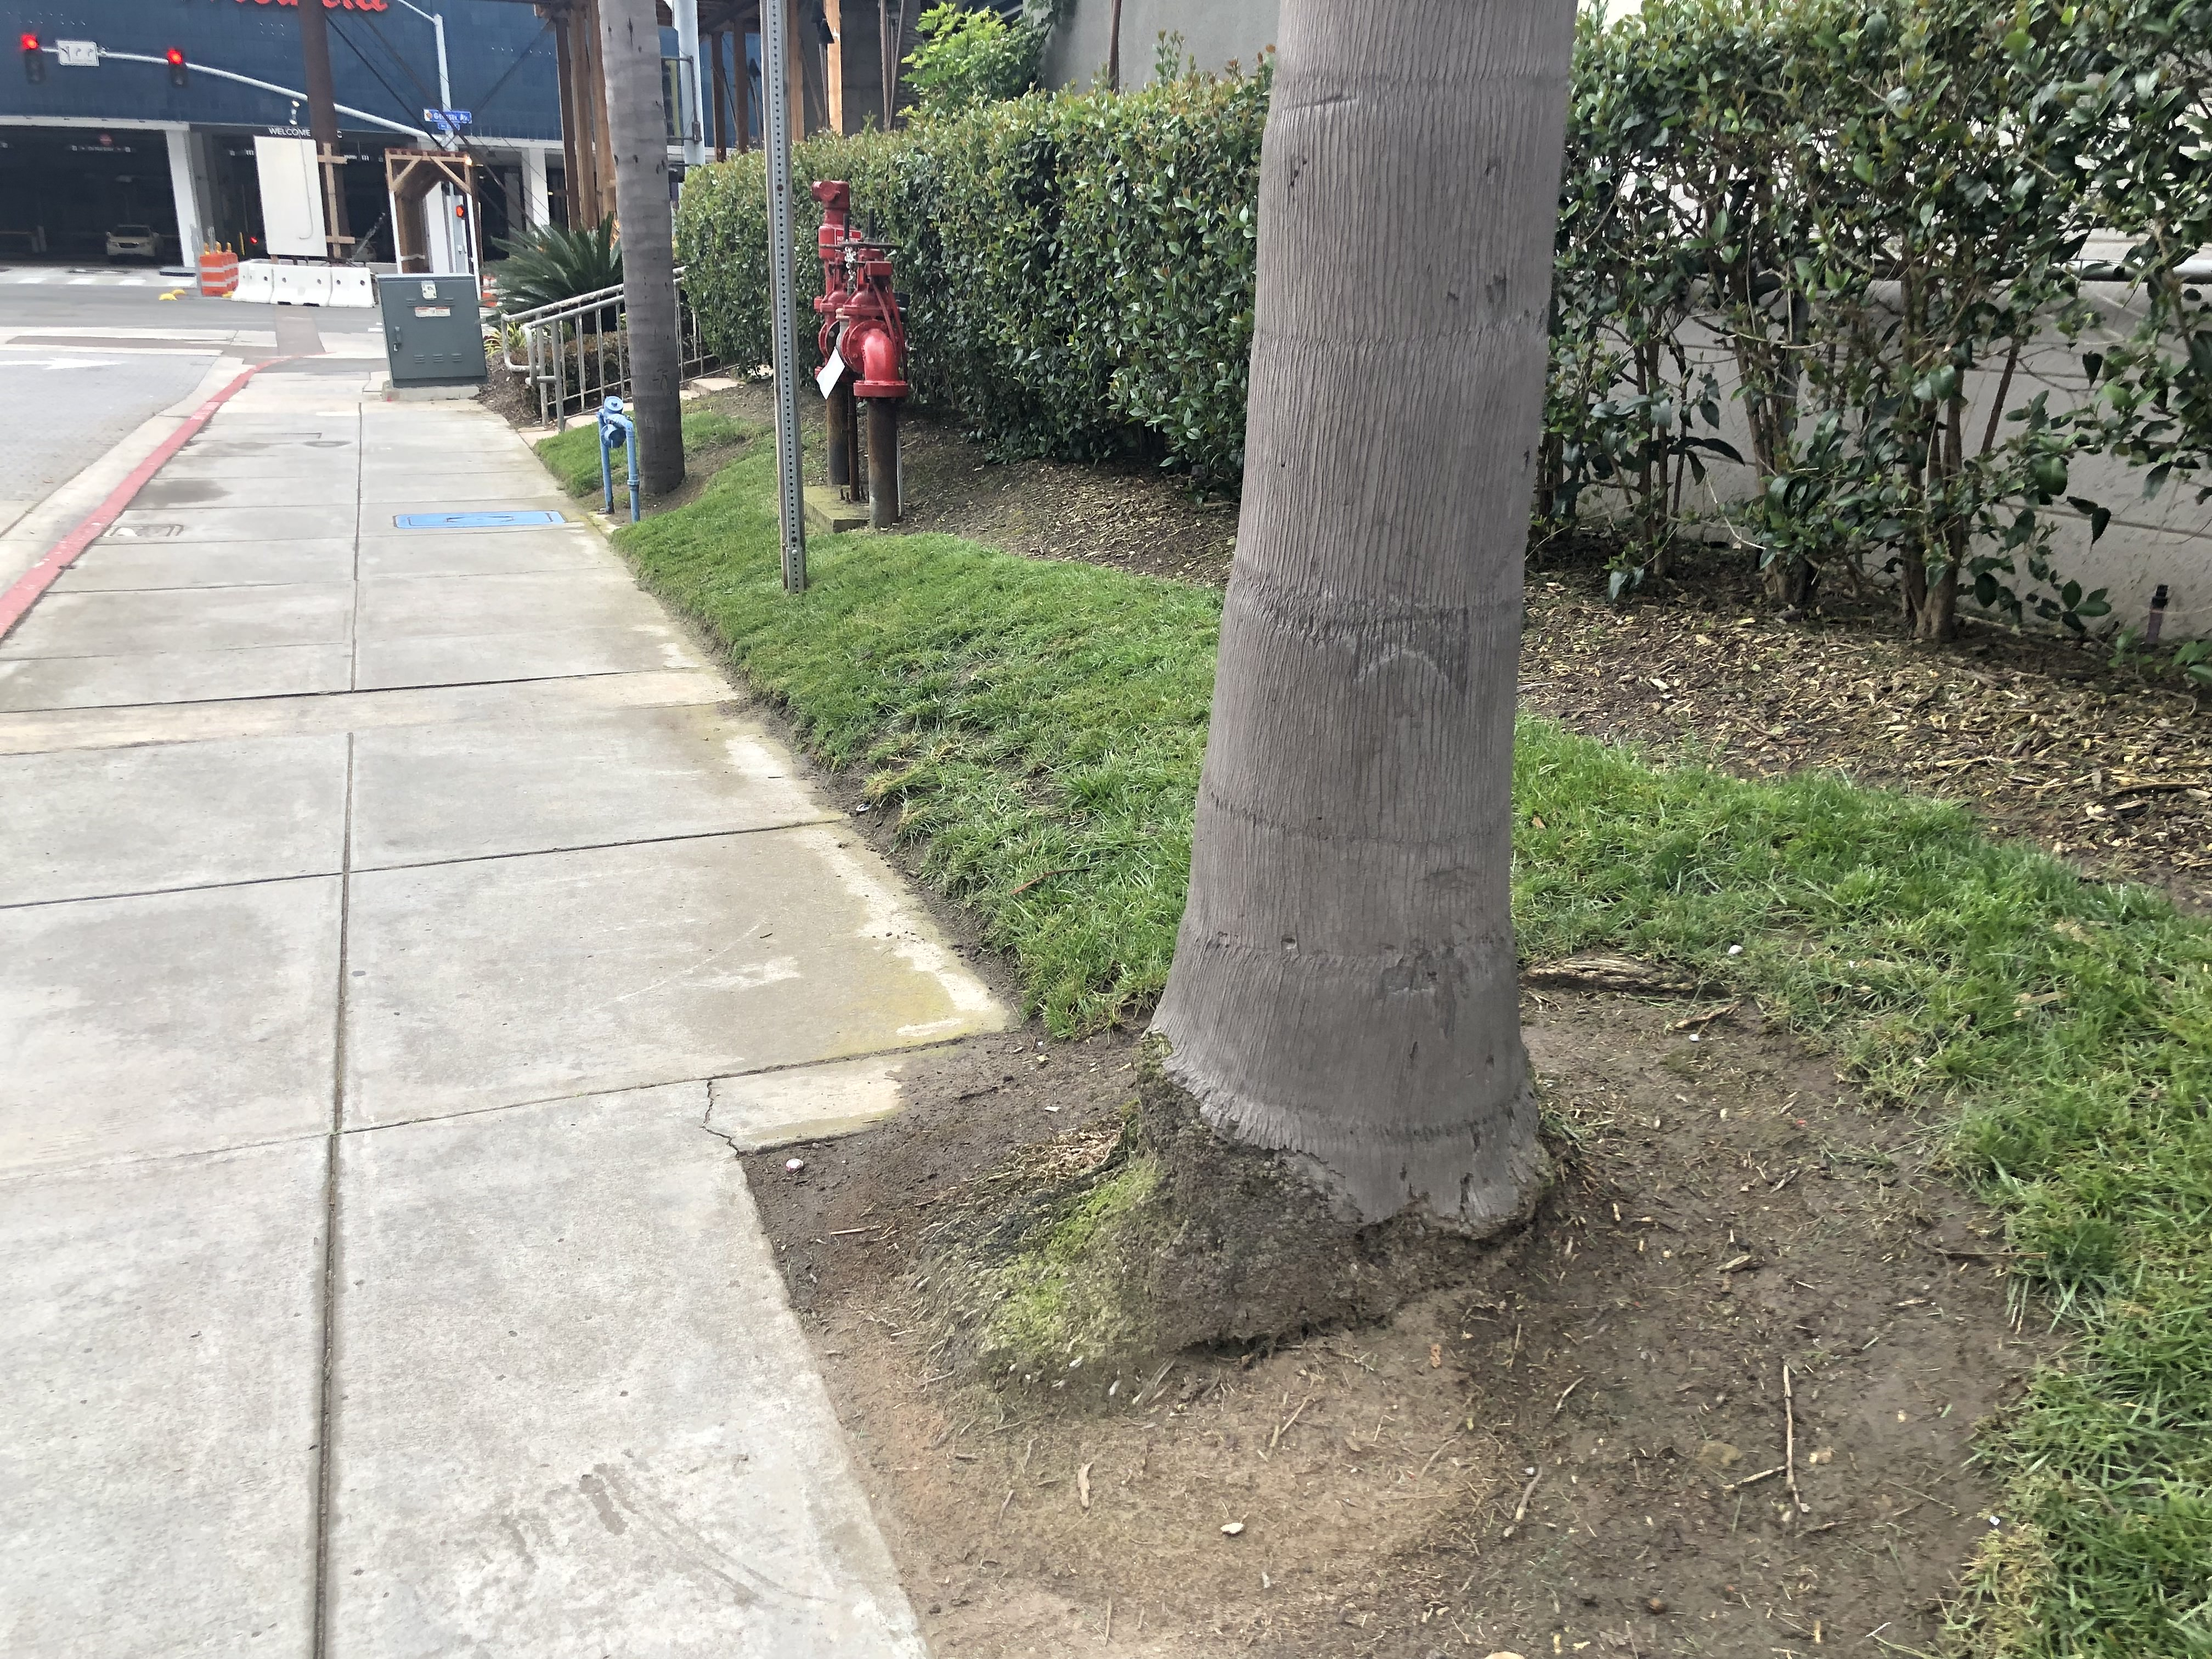Edge: (538, 439, 1015, 1652), (5, 347, 289, 706)
Obstacle: (1127, 16, 1602, 1335), (744, 16, 918, 596), (578, 3, 709, 530), (373, 256, 507, 389), (582, 385, 690, 542)
